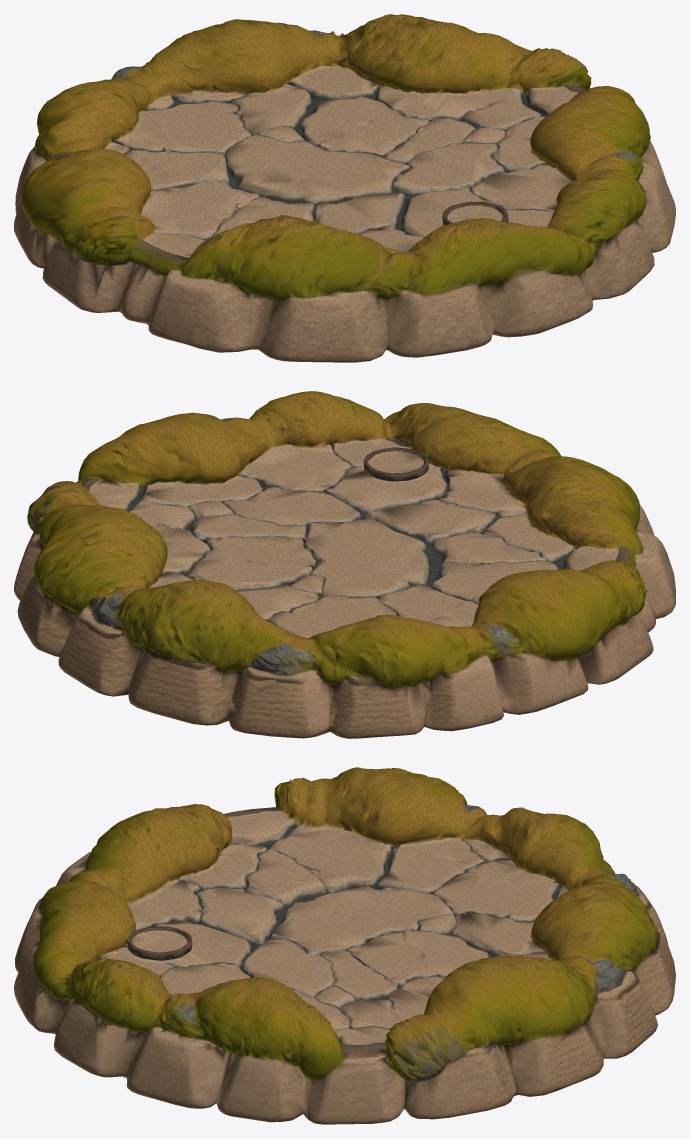
The model's file is pipsTileMossDisc.ead348fe.glb.
3 renders of one model, top to bottom at view 1: azimuth 30°, elevation 25°; view 2: azimuth 150°, elevation 25°; view 3: azimuth 270°, elevation 25°, orthographic.
Size of the model in its own units: 1.9 by 0.3229 by 1.89.
Materials: 1 (1 with a texture image).
